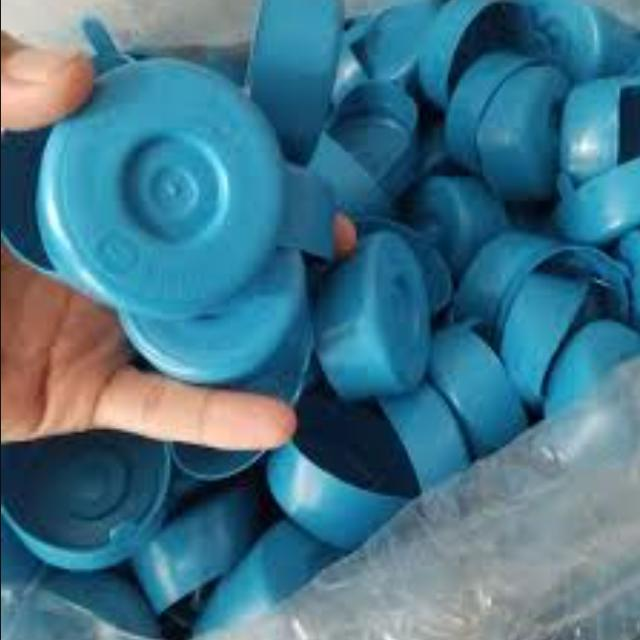TutupGalon: (35, 54, 290, 320)
